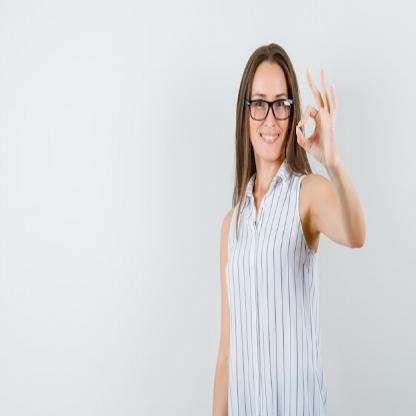ok: (296, 66, 340, 171)
